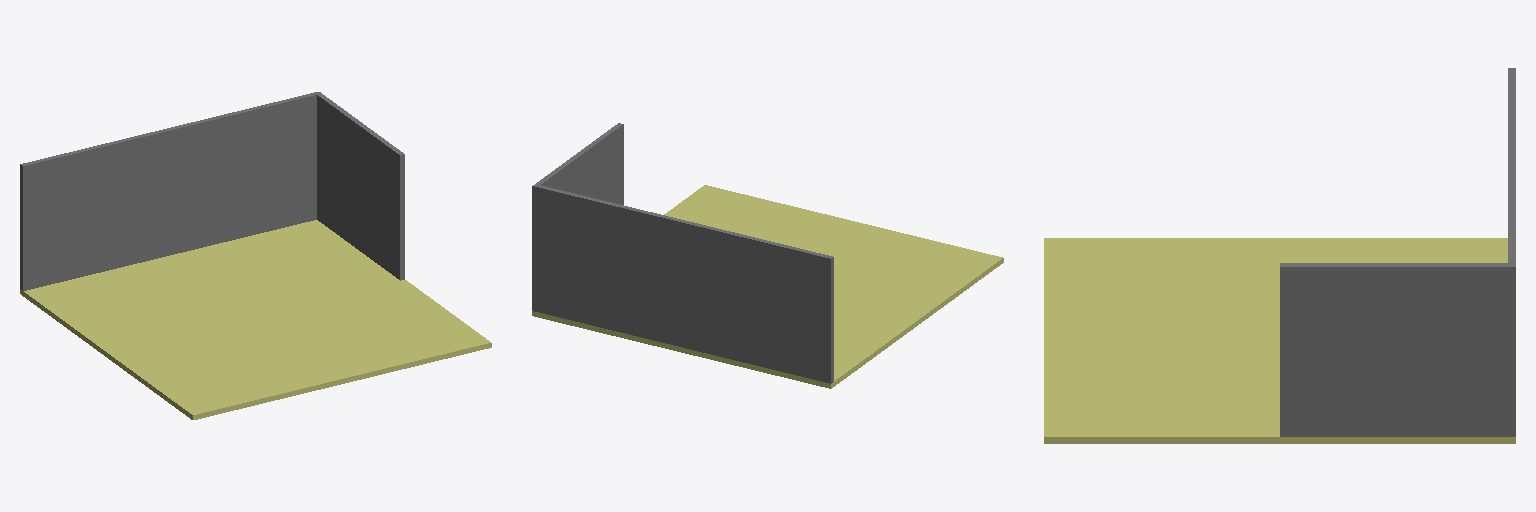
URDF robot description (robot):
<?xml version="1.0"?>
<robot name="">
    <link name="corridor_base_link"/>

    <link name="link_ground_plane">
        <visual>
            <material name="">
                <color rgba="0.8 0.8 0.5 1"/>
            </material>
            <geometry>
                <box size="6 6 0.1"/>
            </geometry>
        </visual>
        <collision>
            <geometry>
                <box size="6 6 0.1"/>
            </geometry>
        </collision>
    </link>

    <joint name="joint_ground_plane" type="fixed">
        <origin xyz="0 0 -0.05"/>
        <parent link="corridor_base_link"/>
        <child link="link_ground_plane"/>
    </joint>

    <link name="outer_l_shaped_wall_origin_link"/>

    <joint name="outer_l_shaped_wall_origin_joint" type="fixed">
        <origin xyz="3 3 0"/>
        <parent link="corridor_base_link"/>
        <child link="outer_l_shaped_wall_origin_link"/>
    </joint>
    
    
    <link name="outer_along_x_wall_link">
        <visual>
            <material name="">
                <color rgba="0.5 0.5 0.5 0.5"/>
            </material>
            <geometry>
                <box size="6 0.1 2.4"/>
            </geometry>
        </visual>
        <collision>
            <geometry>
                <box size="6 0.1 2.4"/>
            </geometry>
        </collision>
    </link>

    <joint name="outer_along_x_wall_link_joint" type="fixed">
        <origin xyz="-3 -0.05 1.2"/>
        <parent link="outer_l_shaped_wall_origin_link"/>
        <child link="outer_along_x_wall_link"/>
    </joint>
    
    <link name="outer_along_y_wall_link">
        <visual>
            <material name="">
                <color rgba="0.5 0.5 0.5 0.5"/>
            </material>
            <geometry>
                <box size="3 0.1 2.4"/>
            </geometry>
        </visual>
        <collision>
            <geometry>
                <box size="3 0.1 2.4"/>
            </geometry>
        </collision>
    </link>
    
    
    <joint name="outer_along_y_wall_link_joint" type="fixed">
        <origin xyz="-0.05 -1.5 1.2" rpy="3.14159 -3.14159 1.5708"/>
        <parent link="outer_l_shaped_wall_origin_link"/>
        <child link="outer_along_y_wall_link"/>
    </joint>
    
</robot>

--- Render facts (derived) ---
Views: 3 orthographic renders of the robot side by side, from view 1: azimuth 30°, elevation 25°; view 2: azimuth 150°, elevation 25°; view 3: azimuth 270°, elevation 25°.
Model robot with 5 links and 4 joints (4 fixed), rooted at corridor_base_link, posed all joints at 0.
Visible links, largest first — view 1: link_ground_plane, outer_along_x_wall_link, outer_along_y_wall_link; view 2: outer_along_x_wall_link, link_ground_plane, outer_along_y_wall_link; view 3: link_ground_plane, outer_along_y_wall_link, outer_along_x_wall_link.
Link boxes in pixels (bbox=[...]): link_ground_plane: bbox=[20, 220, 491, 419]; outer_along_x_wall_link: bbox=[20, 92, 321, 290]; outer_along_y_wall_link: bbox=[317, 94, 404, 280]; outer_along_x_wall_link: bbox=[532, 184, 833, 383]; link_ground_plane: bbox=[532, 185, 1003, 388]; outer_along_y_wall_link: bbox=[532, 123, 623, 253]; link_ground_plane: bbox=[1044, 238, 1515, 443]; outer_along_y_wall_link: bbox=[1280, 263, 1507, 436]; outer_along_x_wall_link: bbox=[1508, 68, 1515, 436].
Bounding box of the posed robot: 6 × 6 × 2.5 m (x, y, z).
Geometry: primitives only (box / cylinder / sphere), no mesh files.